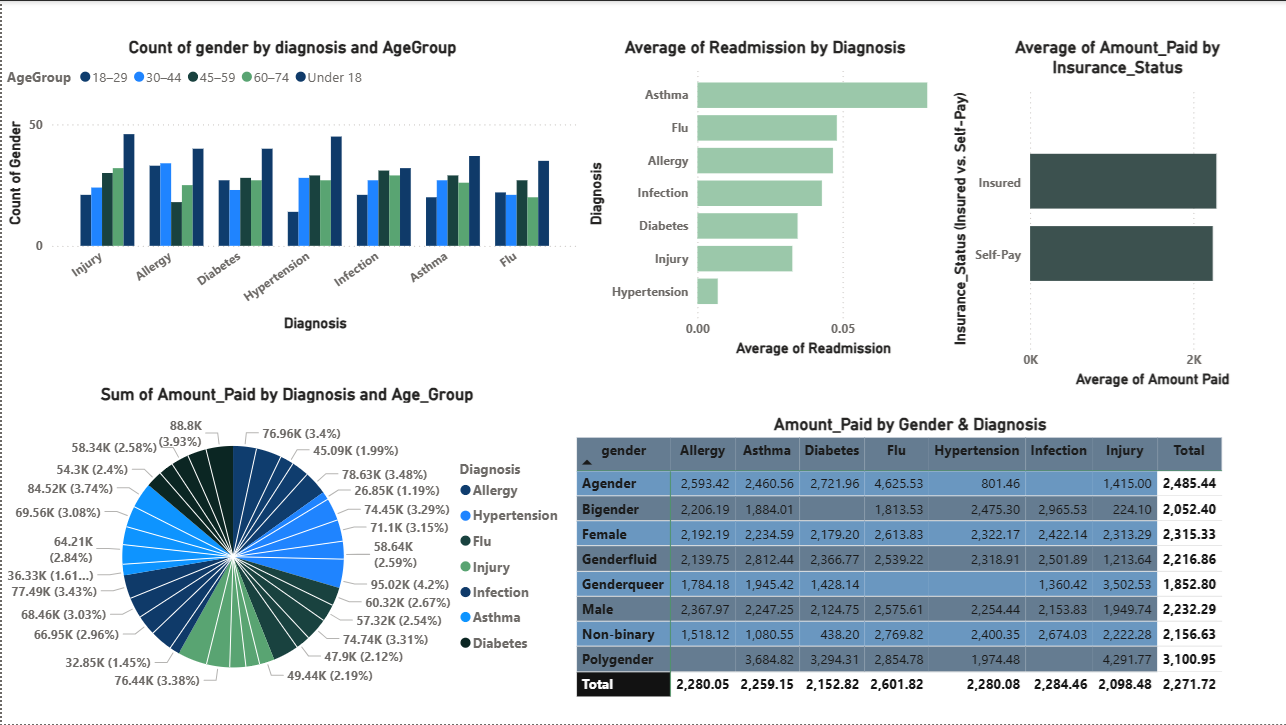

The page's visual inventory and layout, read from the dashboard file:
{"tool":"powerbi","page":{"name":"Page 1","canvas":[1280,720],"ordinal":0},"visuals":[{"type":"clusteredBarChart","title":"Average of Readmission by Diagnosis","fields":{"Category":["final_dataset.diagnosis"],"Y":["Avg(final_dataset.readmission)"]},"box":[578.4,36.1,362,322.2],"z":0},{"type":"clusteredBarChart","title":"Average of Amount_Paid by Insurance_Status","fields":{"Category":["final_dataset.insurance_status"],"Y":["Avg(final_dataset.amount_paid)"]},"box":[940.4,36.1,339.6,353.3],"z":1000},{"type":"clusteredColumnChart","fields":{"Y":["CountNonNull(final_dataset.gender)"],"Category":["final_dataset.diagnosis"],"Series":["final_dataset.AgeGroup"]},"box":[0,36.1,578.4,297.3],"z":2000},{"type":"pieChart","title":"Sum of Amount_Paid by Diagnosis and Age_Group","fields":{"Category":["final_dataset.diagnosis"],"Y":["Sum(final_dataset.amount_paid)"],"Series":["final_dataset.AgeGroup"]},"box":[0,380.7,567.2,325.9],"z":3000},{"type":"pivotTable","title":"Amount_Paid by Gender & Diagnosis","fields":{"Values":["Avg(final_dataset.amount_paid)"],"Rows":["final_dataset.gender"],"Columns":["final_dataset.diagnosis"]},"box":[567.2,410.5,673,296.1],"z":4000}]}

Visuals, with their boxes in screenshot pixels (x1, y1, x2, y2), scaled from the page's 1280x720 canvas onto the 1286x725 screenshot:
"Average of Readmission by Diagnosis" clusteredBarChart: bbox=(581, 36, 945, 361)
"Average of Amount_Paid by Insurance_Status" clusteredBarChart: bbox=(945, 36, 1285, 392)
clusteredColumnChart - CountNonNull(final_dataset.gender) x final_dataset.diagnosis: bbox=(0, 36, 581, 336)
"Sum of Amount_Paid by Diagnosis and Age_Group" pieChart: bbox=(0, 383, 570, 712)
"Amount_Paid by Gender & Diagnosis" pivotTable: bbox=(570, 413, 1246, 712)
